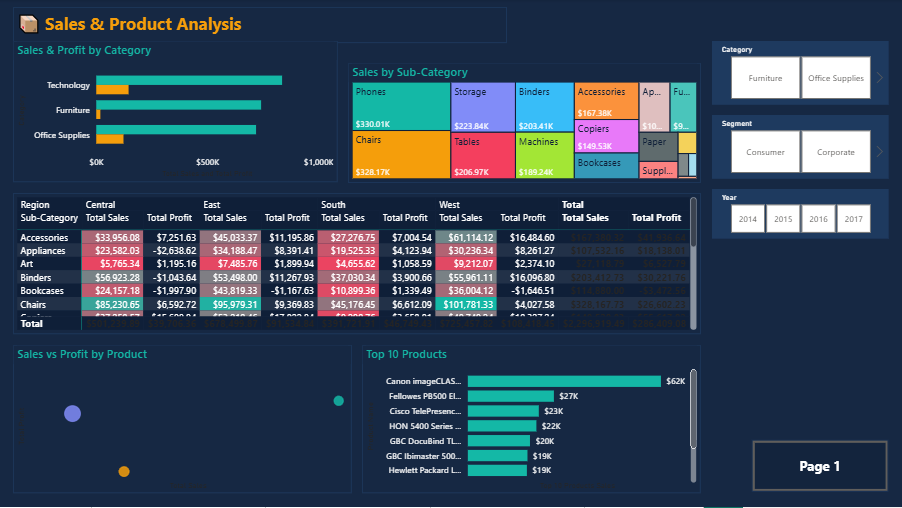

The page's visual inventory and layout, read from the dashboard file:
{"tool":"powerbi","page":{"name":"Sales & Product Analysis","canvas":[1280,720],"ordinal":1},"visuals":[{"type":"textbox","box":[20.5,12,700,51.3],"z":0},{"type":"slicer","fields":{"Values":["Superstore.Category"]},"box":[1010,60,250,90],"z":1000},{"type":"slicer","fields":{"Values":["Superstore.Segment"]},"box":[1010,165,250,90],"z":2000},{"type":"slicer","fields":{"Values":["DateTable.Year"]},"box":[1010.1,269.9,250.3,69.7],"z":3000},{"type":"clusteredBarChart","title":"Sales & Profit by Category","fields":{"Category":["Superstore.Category"],"Y":["Superstore.Total Sales","Superstore.Total Profit"]},"box":[20,60,460,200],"z":4000},{"type":"treemap","title":"Sales by Sub-Category","fields":{"Group":["Superstore.Sub-Category"],"Values":["Superstore.Total Sales"]},"box":[495,90,500,170],"z":5000},{"type":"pivotTable","fields":{"Columns":["Superstore.Region"],"Rows":["Superstore.Sub-Category"],"Values":["Superstore.Total Sales","Superstore.Total Profit"]},"box":[20,275,975,200],"z":6000},{"type":"scatterChart","title":"Sales vs Profit by Product","fields":{"Series":["Superstore.Category"],"Size":["Superstore.Total Quantity"],"X":["Superstore.Total Sales"],"Y":["Superstore.Total Profit"]},"box":[20,490,480,210],"z":7000},{"type":"clusteredBarChart","title":"Top 10 Products ","fields":{"Category":["Superstore.Product Name"],"Y":["Superstore.Top 10 Products Sales"]},"box":[515,490,480,210],"z":8000},{"type":"actionButton","title":"Page 1","box":[1067.3,625.7,193.3,73.3],"z":9000}]}

Visuals, with their boxes in screenshot pixels (x1, y1, x2, y2), scaled from the page's 1280x720 canvas onto the 902x508 screenshot:
textbox: left=14, top=8, right=508, bottom=45
slicer - Superstore.Category: left=712, top=42, right=888, bottom=106
slicer - Superstore.Segment: left=712, top=116, right=888, bottom=180
slicer - DateTable.Year: left=712, top=190, right=888, bottom=240
"Sales & Profit by Category" clusteredBarChart: left=14, top=42, right=338, bottom=183
"Sales by Sub-Category" treemap: left=349, top=64, right=701, bottom=183
pivotTable - Superstore.Region x Superstore.Sub-Category: left=14, top=194, right=701, bottom=335
"Sales vs Profit by Product" scatterChart: left=14, top=346, right=352, bottom=494
"Top 10 Products " clusteredBarChart: left=363, top=346, right=701, bottom=494
"Page 1" actionButton: left=752, top=441, right=888, bottom=493
